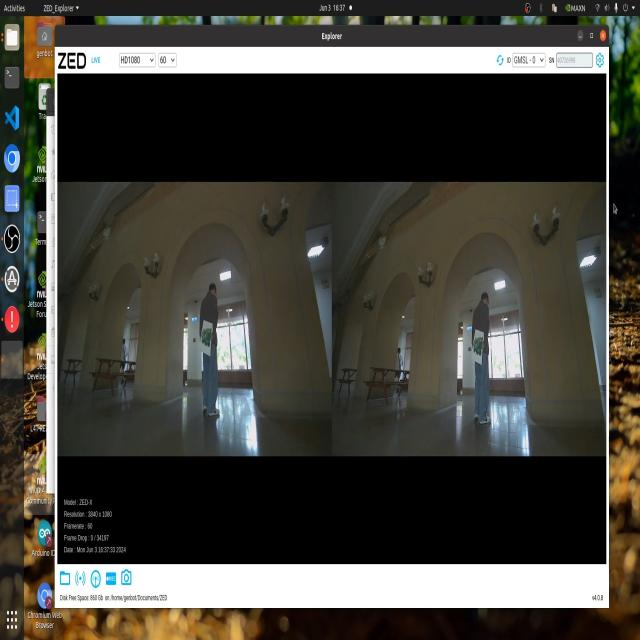green: (472, 330, 486, 368), (200, 319, 210, 353)
